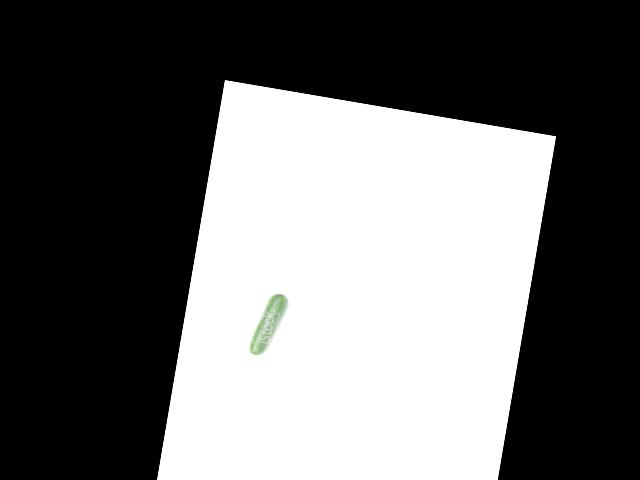cucumber: (248, 289, 289, 358)
